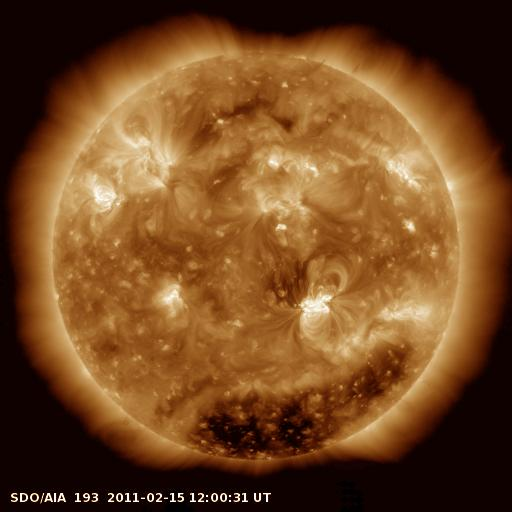coronal_hole: (187, 337, 417, 466)
